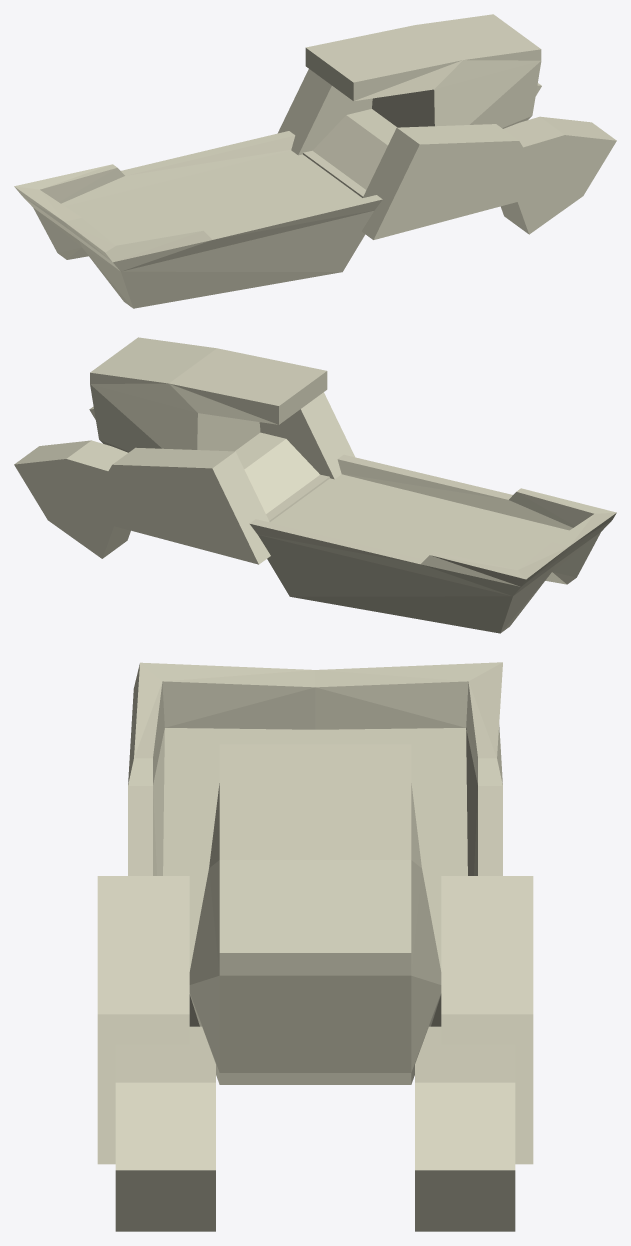
Rendered from Ship Collider.FBX.
The picture shows the model from 3 angles, top to bottom: view 1: azimuth 30°, elevation 25°; view 2: azimuth 150°, elevation 25°; view 3: azimuth 270°, elevation 25°; orthographic projection. The views are drawn at different scales.
Parts seen in each view (by area): view 1: Ship's Collider; view 2: Ship's Collider; view 3: Ship's Collider.
Boxes of the visible parts, <box> form: Ship's Collider: <box>14,14,616,308</box>; Ship's Collider: <box>14,337,616,633</box>; Ship's Collider: <box>97,662,533,1231</box>.
Size of the model in its own units: 14.05 by 4.59 by 5.24.
